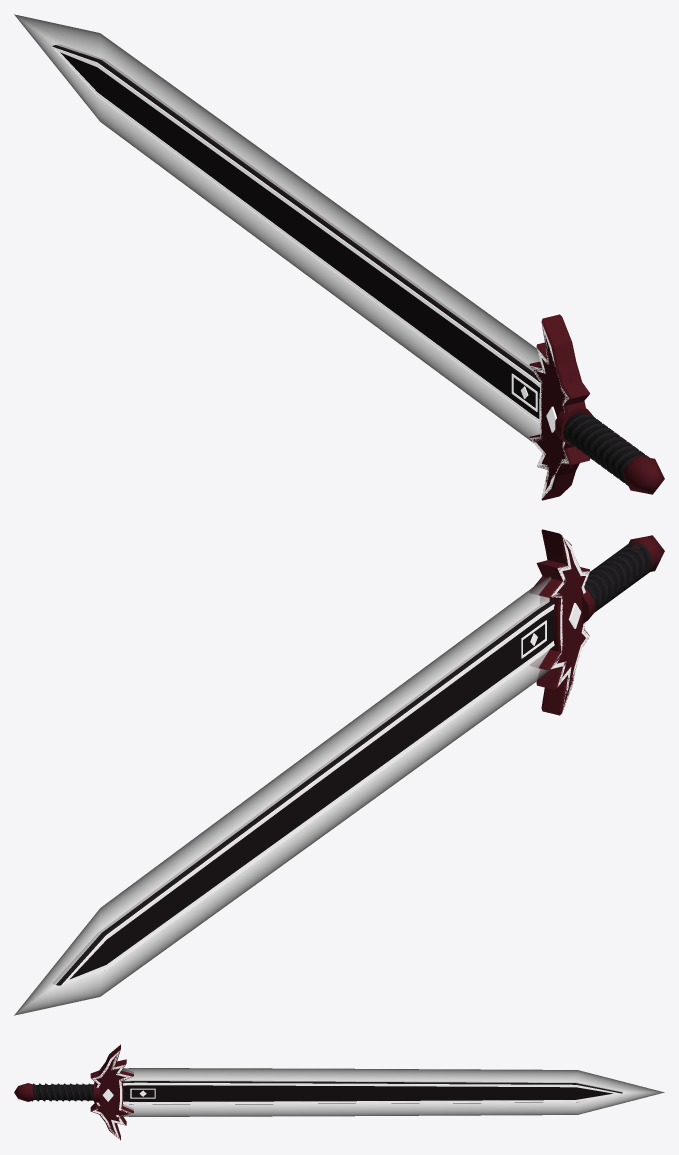
The model's file is schwert.glb.
3 renders of one model, top to bottom at view 1: azimuth 30°, elevation 25°; view 2: azimuth 150°, elevation 25°; view 3: azimuth 270°, elevation 25°, orthographic. The views are drawn at different scales.
Bounding box in the file's own units: 0.04 × 0.2008 × 1.29.
